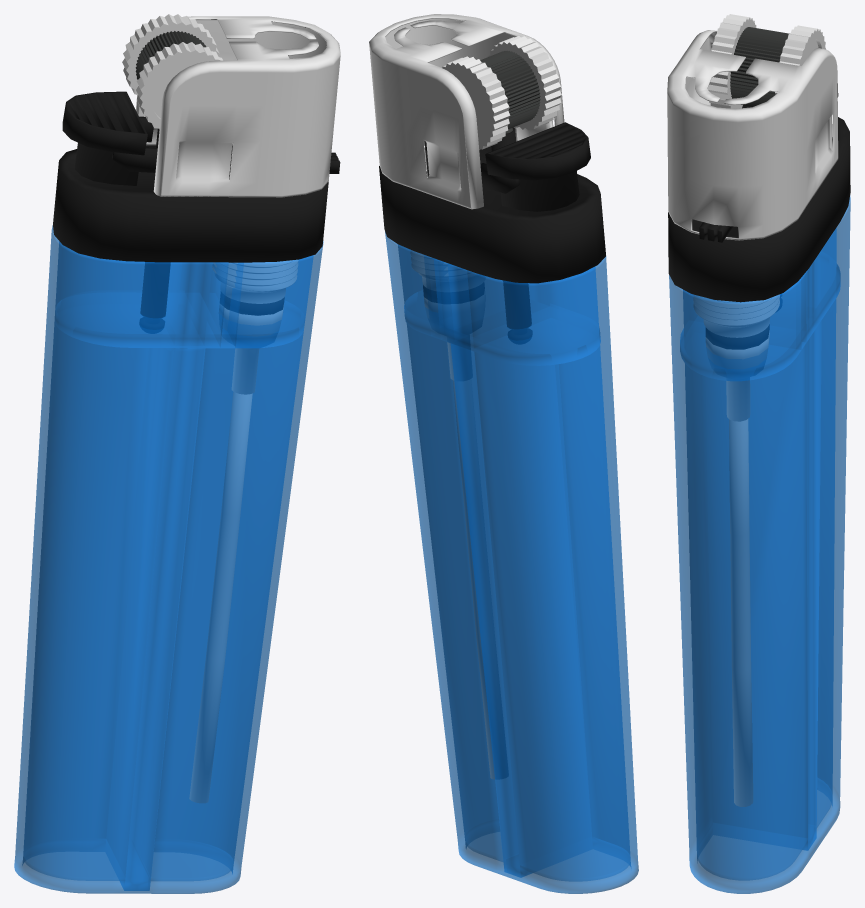
3 renders of one model, left to right at view 1: azimuth 30°, elevation 25°; view 2: azimuth 150°, elevation 25°; view 3: azimuth 270°, elevation 25°, orthographic. The views are drawn at different scales.
Parts seen in each view (by area): view 1: briquet.002; view 2: briquet.002; view 3: briquet.002.
Part boxes in pixels (x1,y1,x2,y2): briquet.002: (14, 14, 340, 893); briquet.002: (369, 14, 638, 893); briquet.002: (667, 14, 850, 893).
Size of the model in its own units: 0.4199 by 1.17 by 0.2298.
